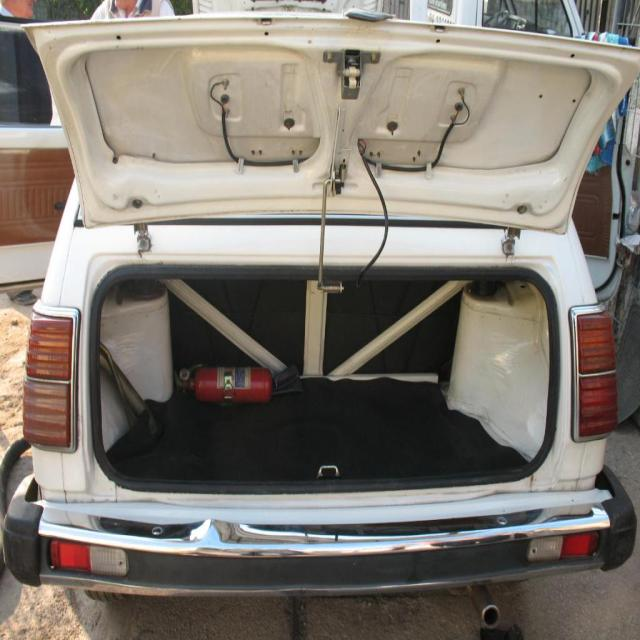car: (15, 0, 629, 621)
